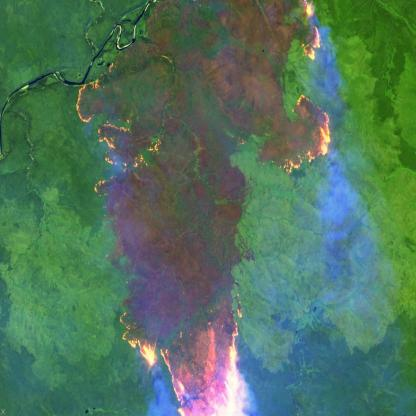fire: (114, 301, 260, 416), (259, 0, 333, 176), (75, 70, 163, 200)
